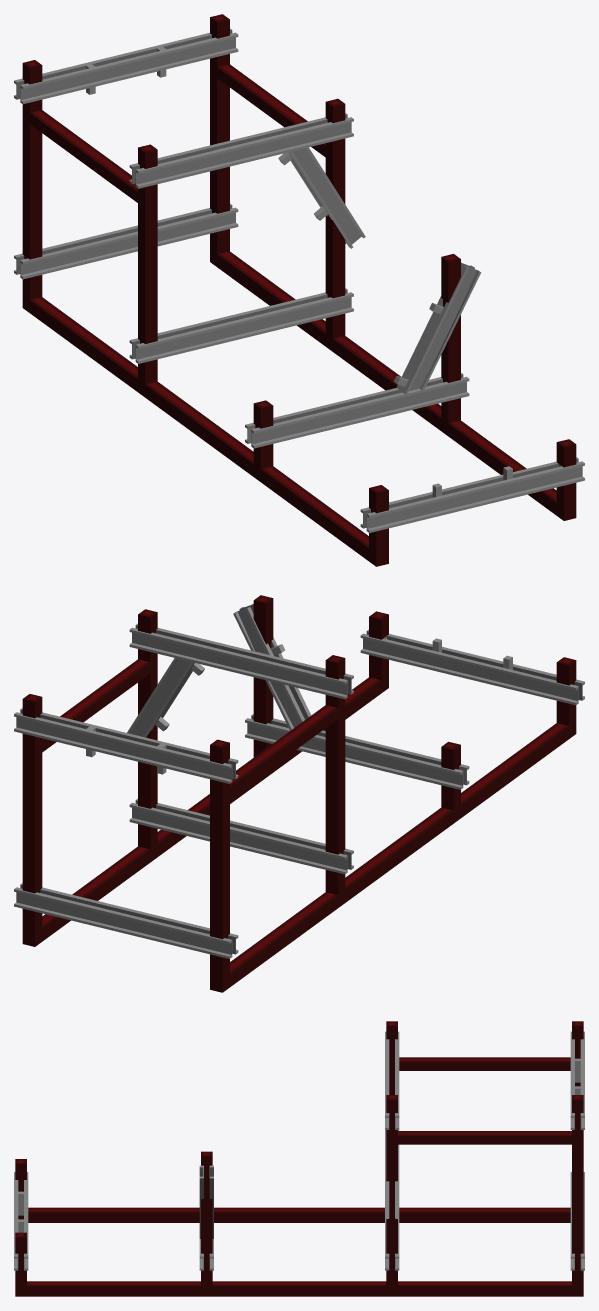
Rendered from rmc_support_barrel_roll.obj.
The picture shows the model from 3 angles, top to bottom: view 1: azimuth 30°, elevation 25°; view 2: azimuth 150°, elevation 25°; view 3: azimuth 270°, elevation 25°; orthographic projection. The views are drawn at different scales.
Bounding box in the file's own units: 3.75 × 3.86 × 10.15.
